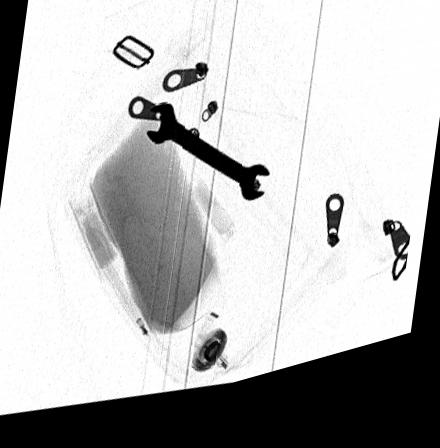Wrench: (145, 111, 272, 215)
